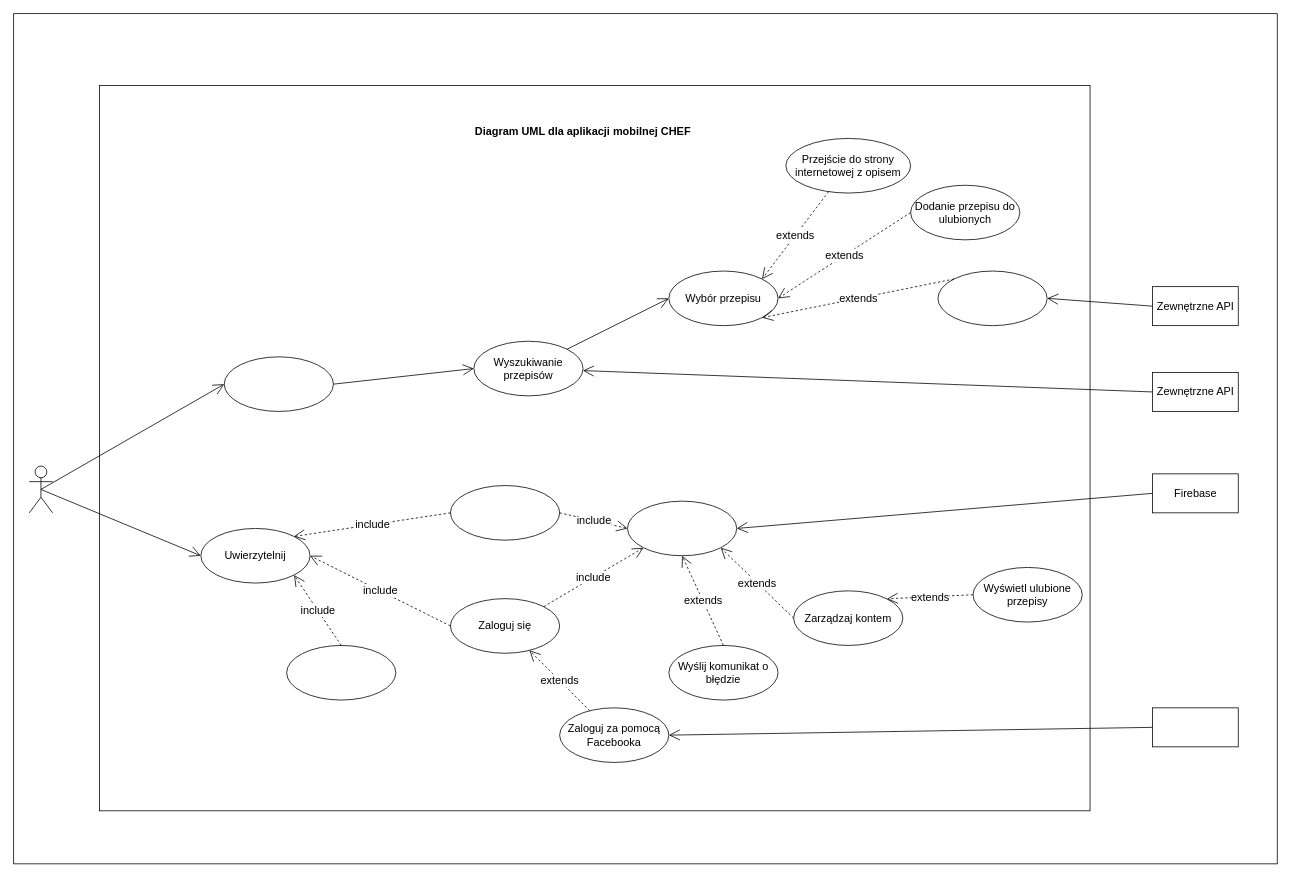
This 1291x877 diagram has some shape labels left out. The centre of each missing label's shape, as x and y in pixels:
Actor: (40,489)
Dodanie składników: (278,383)
Facebook API: (1195,727)
Sprawdź użytkownika: (682,528)
Wejdź bez logowania: (341,672)
Zarejestruj się: (505,512)
Znajdź najbliższy sklep z brakującymi składnikami: (992,298)
